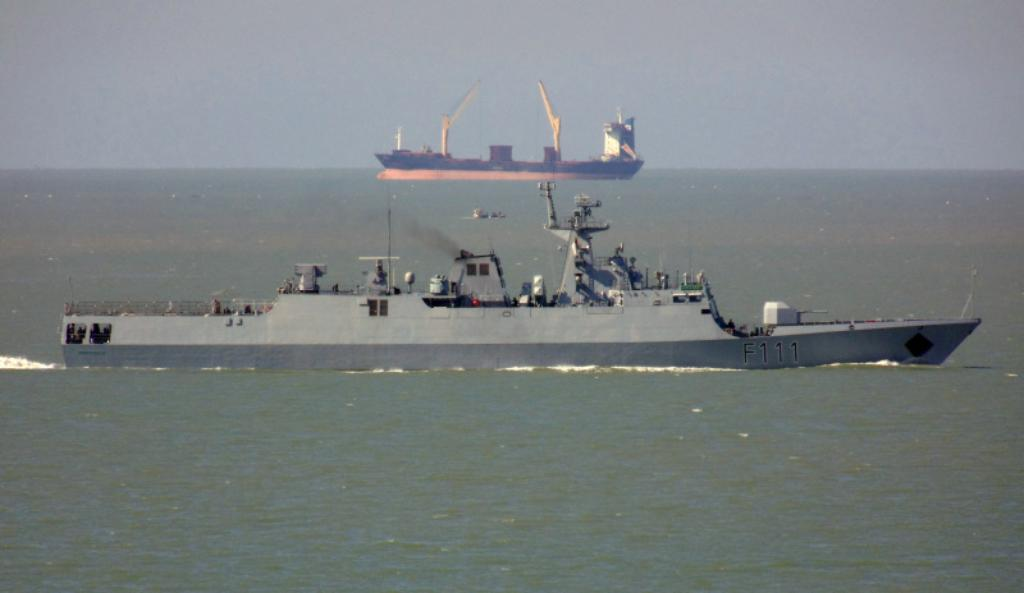Warship: (57, 173, 985, 371)
